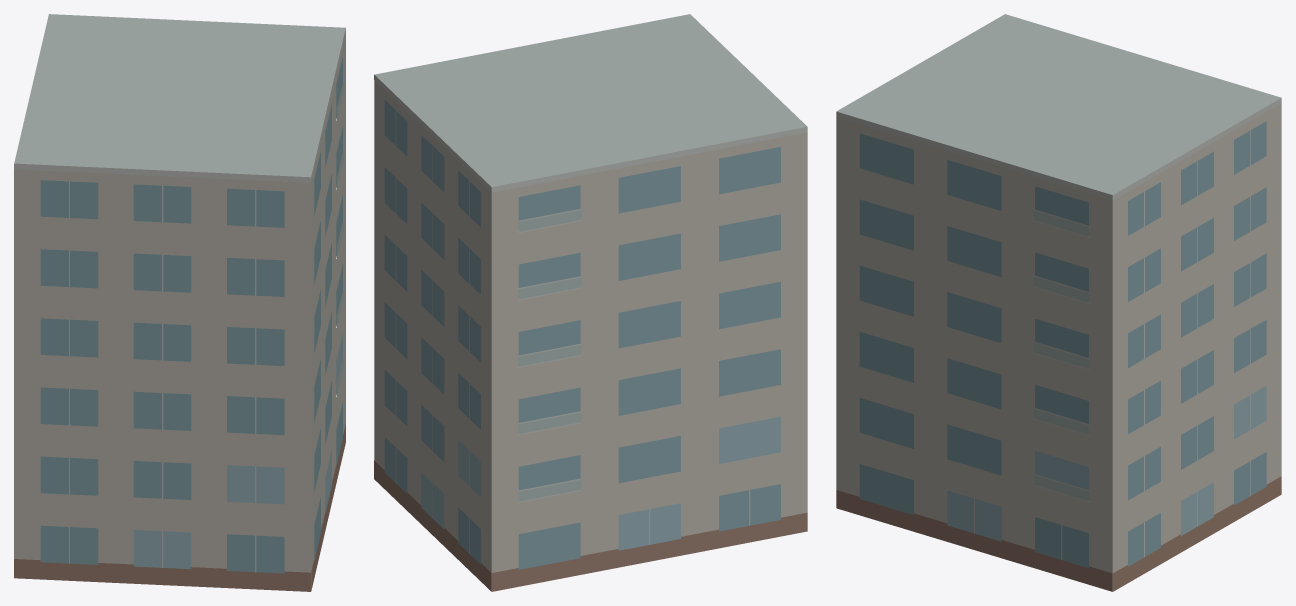
Rendered from survey-upis-32859894.glb.
3 views of the same model, side by side, from view 1: azimuth 30°, elevation 25°; view 2: azimuth 150°, elevation 25°; view 3: azimuth 270°, elevation 25° (orthographic). The views are drawn at different scales.
Visible parts, largest first — view 1: survey-upis-32859894.tmp; view 2: survey-upis-32859894.tmp; view 3: survey-upis-32859894.tmp.
Part boxes in pixels (box(x1,y1,x2,y2)): survey-upis-32859894.tmp: box(14, 14, 345, 591); survey-upis-32859894.tmp: box(374, 14, 807, 591); survey-upis-32859894.tmp: box(836, 14, 1281, 591).
Size of the model in its own units: 17.63 by 18 by 18.32.
